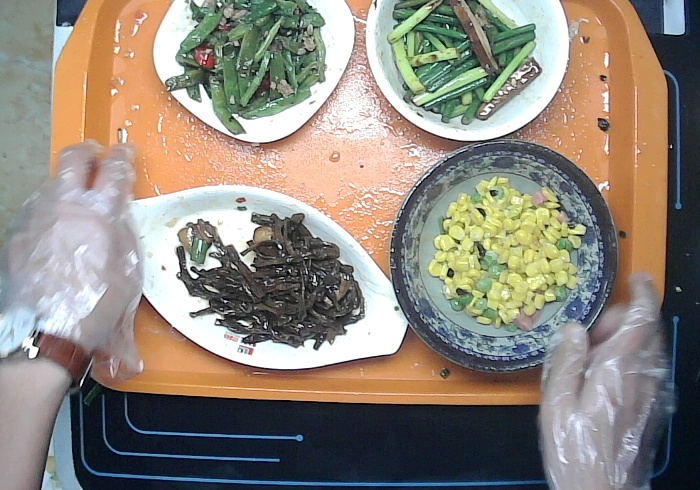ZNLD-Qing_Hua_Wan: (378, 133, 627, 382)
ZNLD-Si_Fang_Wan: (148, 1, 362, 147)
ZNLD-Tang_Wan: (361, 1, 578, 147)
ZNLD-Yu_Pan: (113, 172, 413, 376)
